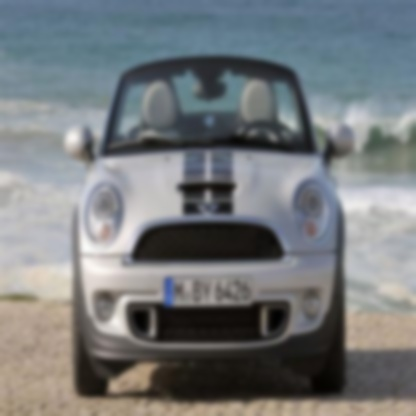Vehicle: (64, 56, 356, 399)
